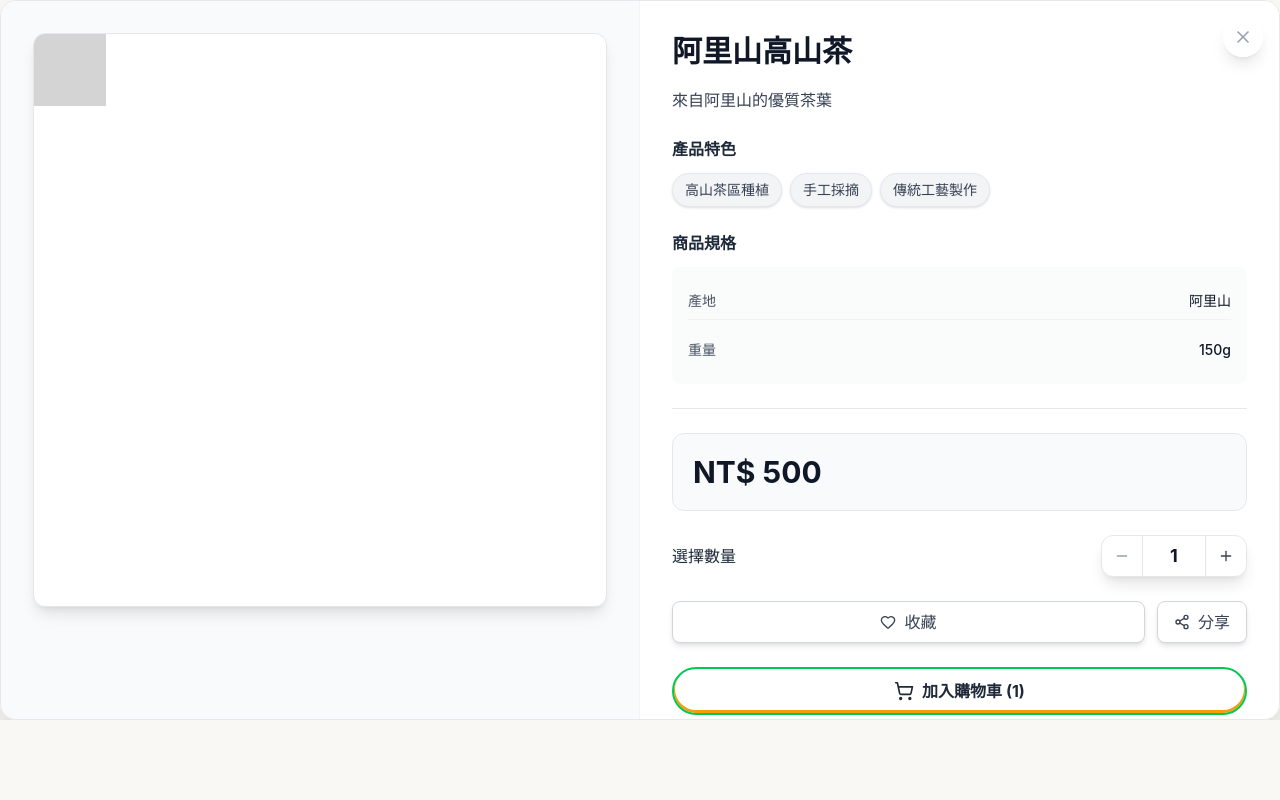
ProductDetailModal › 數量選擇器 › 點擊增加按鈕應該增加數量
Click the button named "增加數量" at (1226, 556), box [1206,536,1246,576]
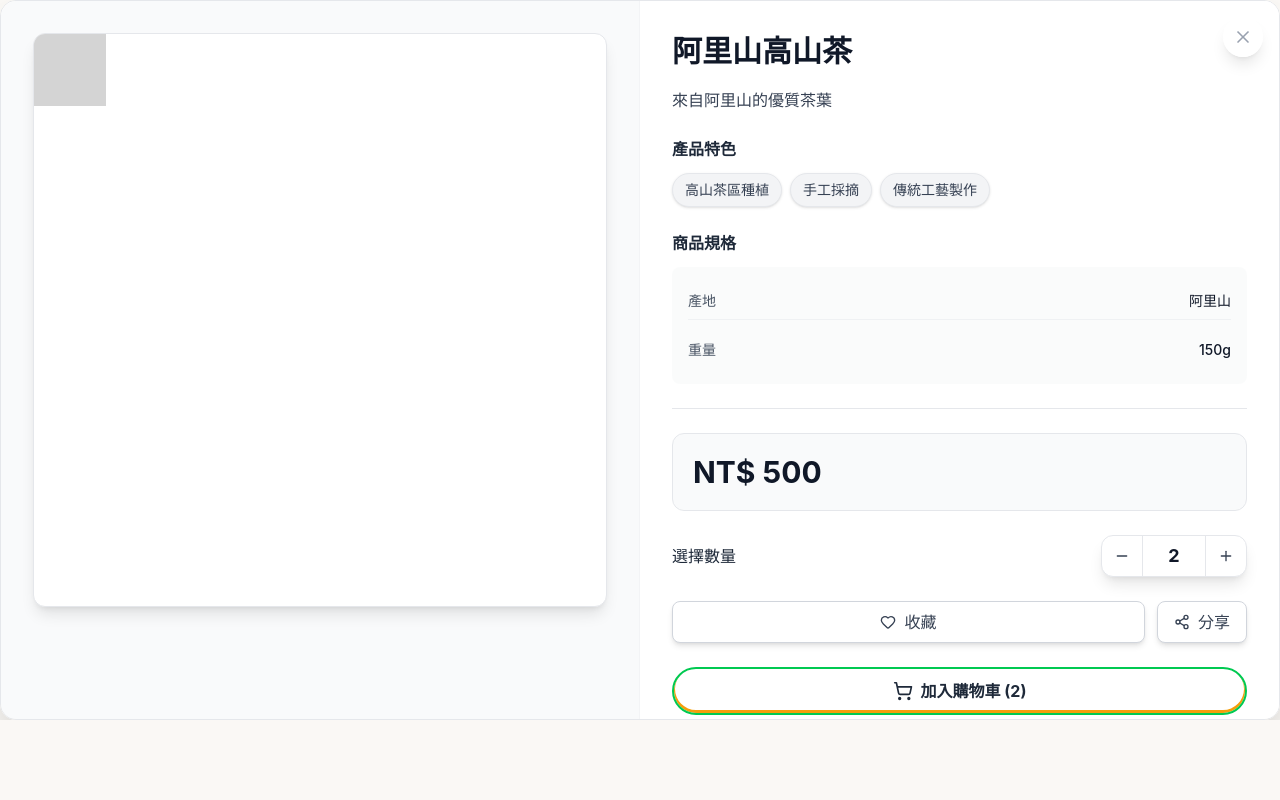
Expected: the number field named "產品數量" holds "2", [1142,536,1206,576]
